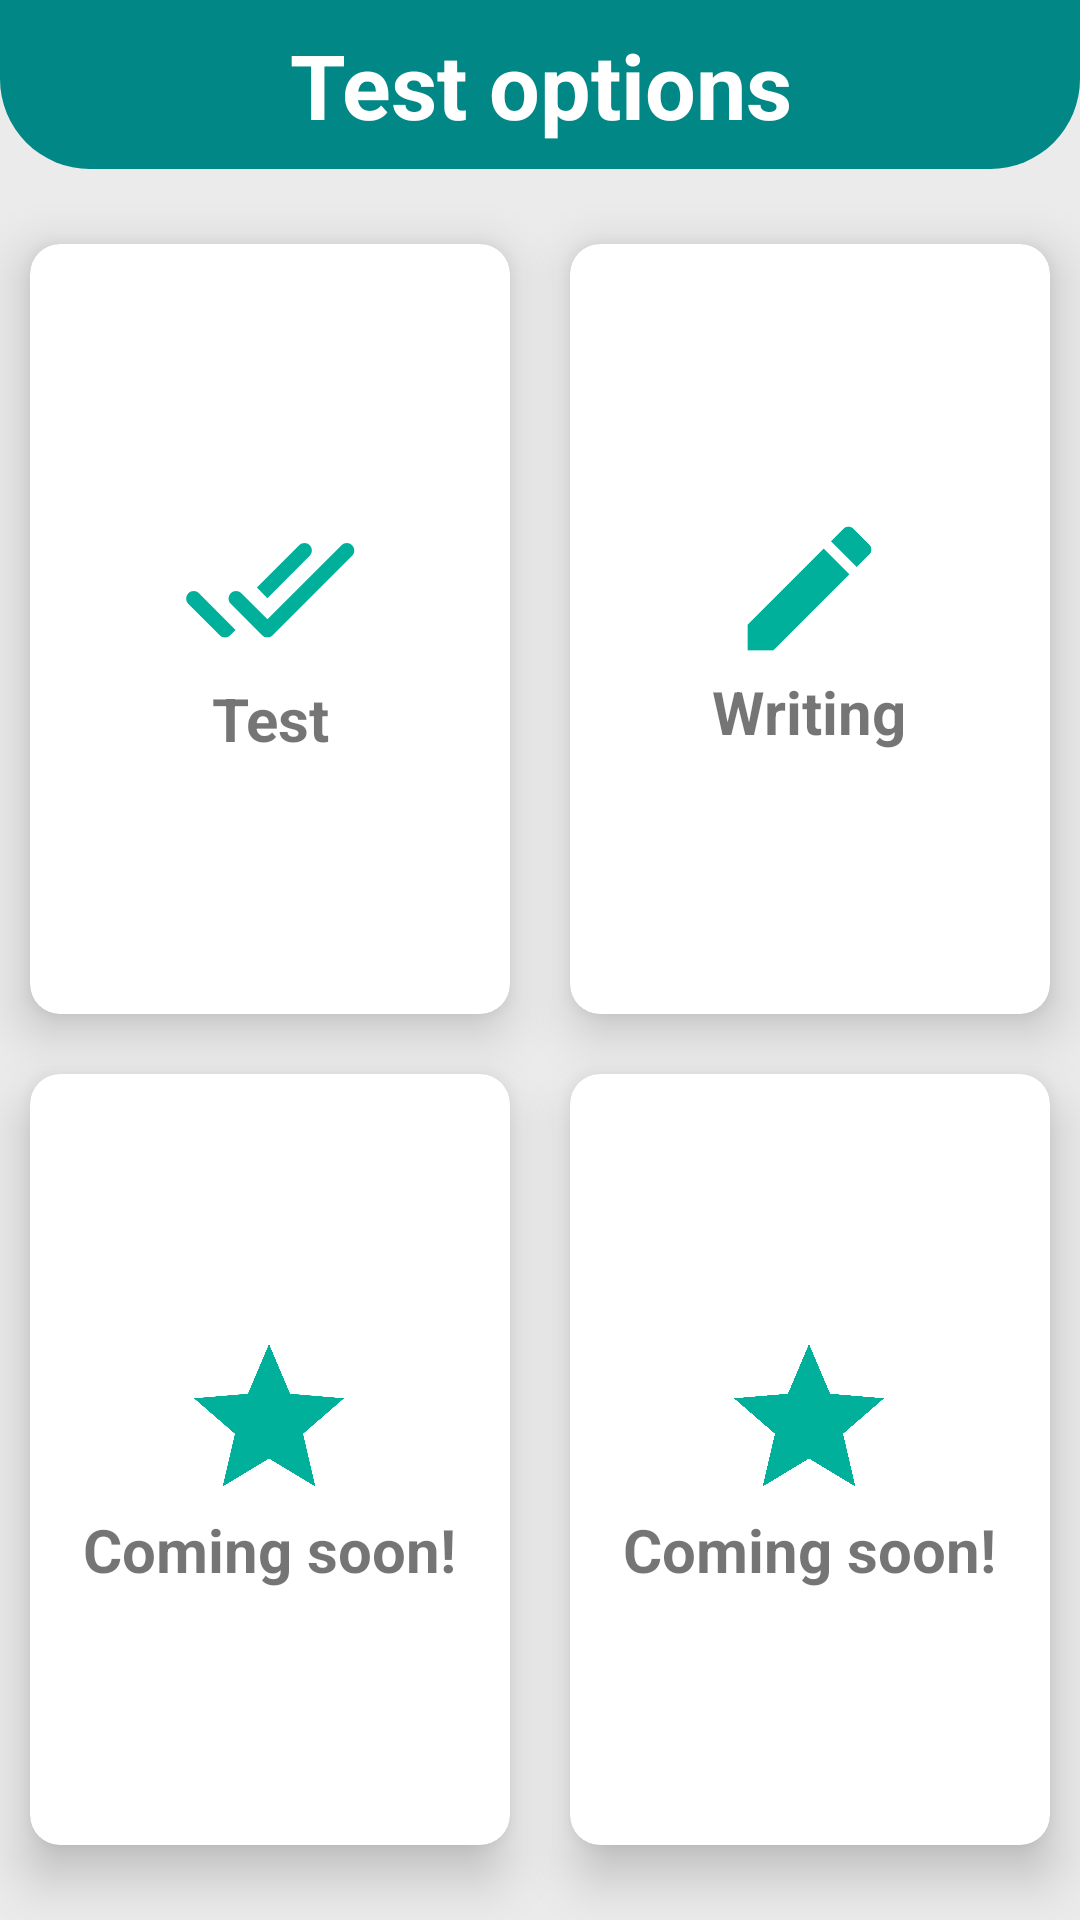

Locate icon controls on the screen. Image size 1080x1920, boxes as (x1=x1, y1=y1, x2=x2, y2=y2).
star: (x1=194, y1=1345, x2=344, y2=1486), (x1=734, y1=1345, x2=884, y2=1486)
